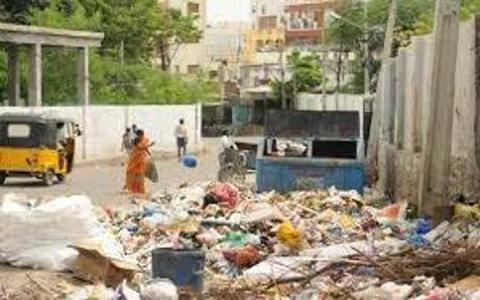overflowing garbage: (247, 145, 379, 278)
